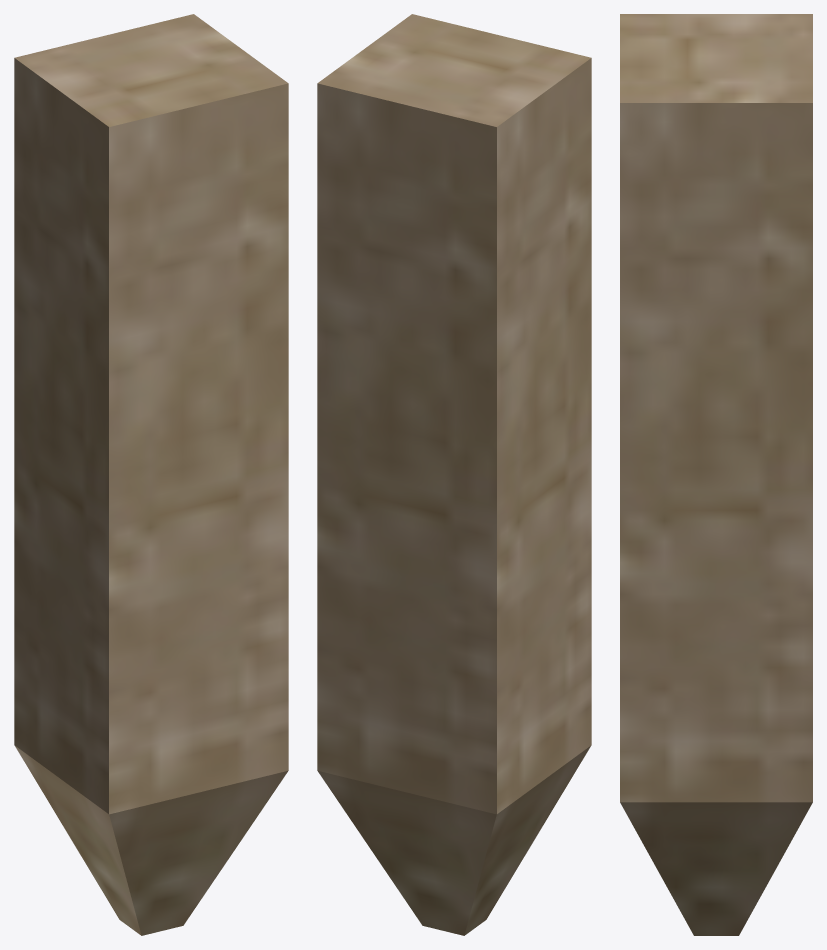
The model's file is pasted__stone_column_202.fbx.
3 renders of one model, left to right at view 1: azimuth 30°, elevation 25°; view 2: azimuth 150°, elevation 25°; view 3: azimuth 270°, elevation 25°, orthographic.
Visible parts, largest first — view 1: pasted__stone_column_202; view 2: pasted__stone_column_202; view 3: pasted__stone_column_202.
Boxes of the visible parts, x1,y1,x2,y2 form: pasted__stone_column_202: (14, 14, 288, 935); pasted__stone_column_202: (317, 14, 591, 935); pasted__stone_column_202: (620, 14, 812, 935).
Size of the model in its own units: 5.47 by 5 by 24.8.
